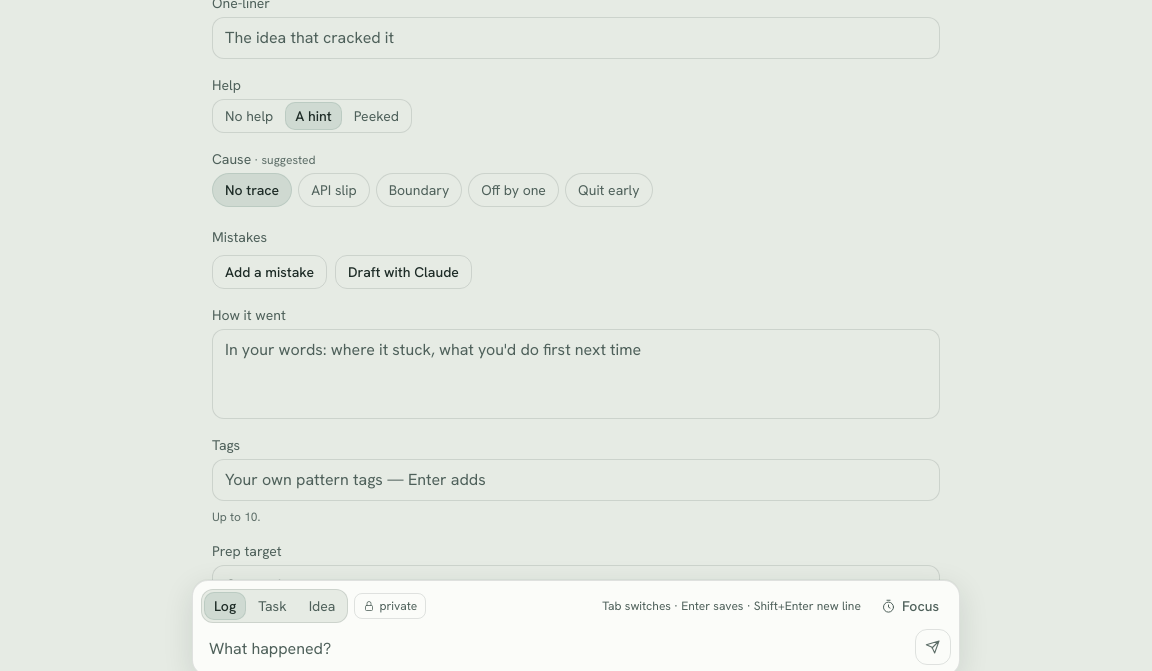
Test: the review › Claude’s draft lines arrive unticked; only ticked ones — edited — are saved, marked draftUsed
The image size is (1152, 671).
(page scrolled)
Step 1. Click the button "Draft with Claude" → (404, 272), box [335,255,472,289]
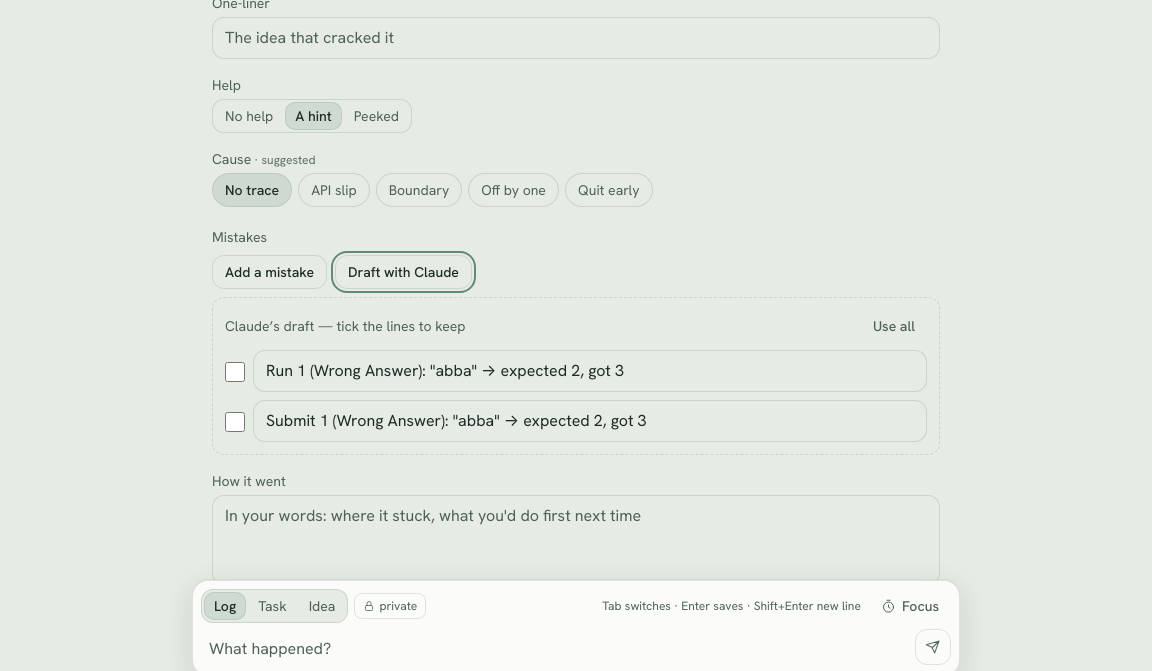
Expected: the number of checkboxes is 2, [225,362,245,382]; [225,412,245,432]
Expected: the text box named "Draft line 1" holds "Run 1 (Wrong Answer): \"abba\" → expected 2, got 3", [253,350,927,392]
Expected: the checkbox named "Keep draft line 1" is not checked, [225,362,245,382]
Step 2. Replace the text in the text box named "Draft line 2" with "Moved left past a repeat it had already left behind (\"abba\")" → (590, 421), box [253,400,927,442]
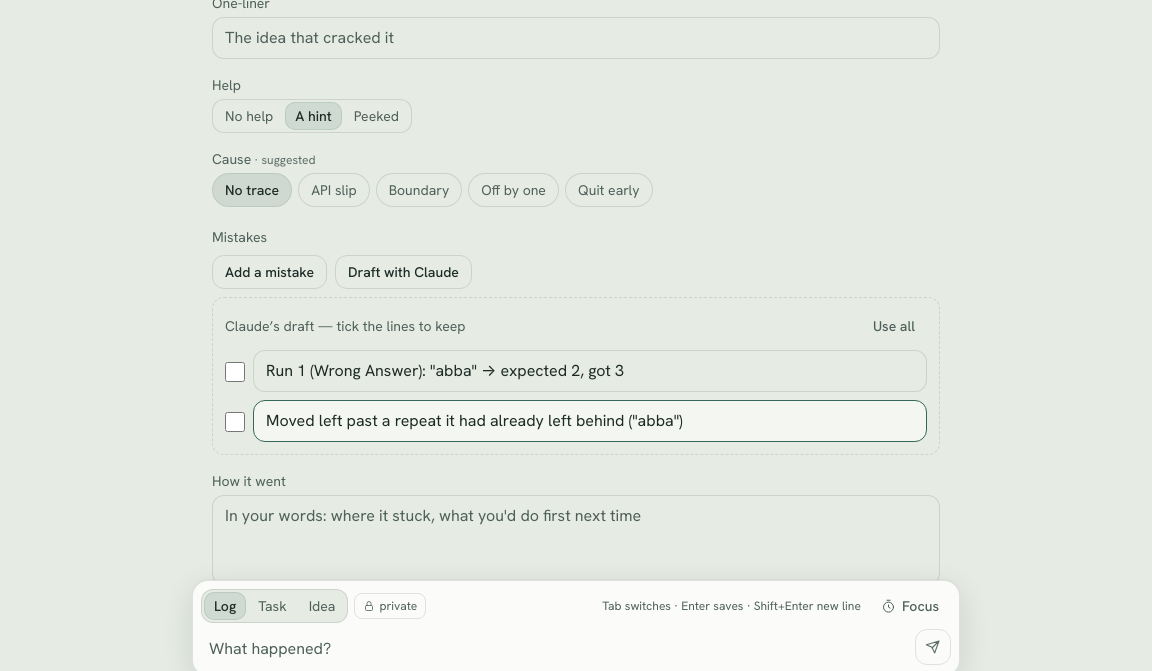
Step 3. Click the checkbox named "Keep draft line 2" → (235, 422), box [225,412,245,432]
(page scrolled)
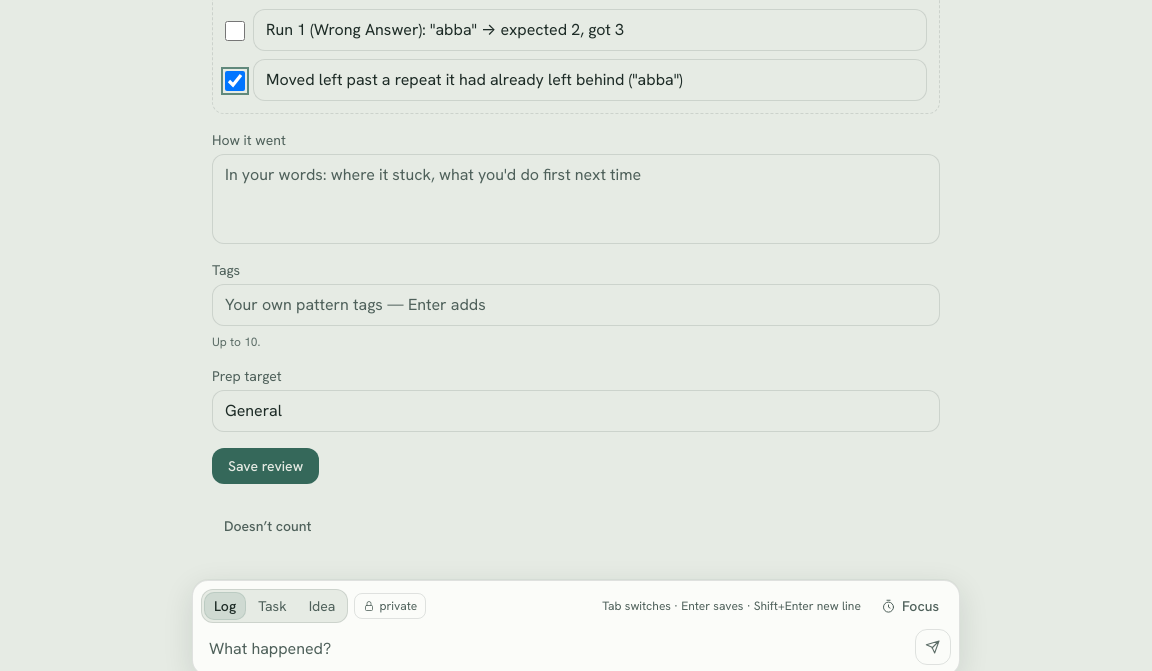
Step 4. Click the button "Save review" → (266, 466), box [212,448,319,484]
(page scrolled)
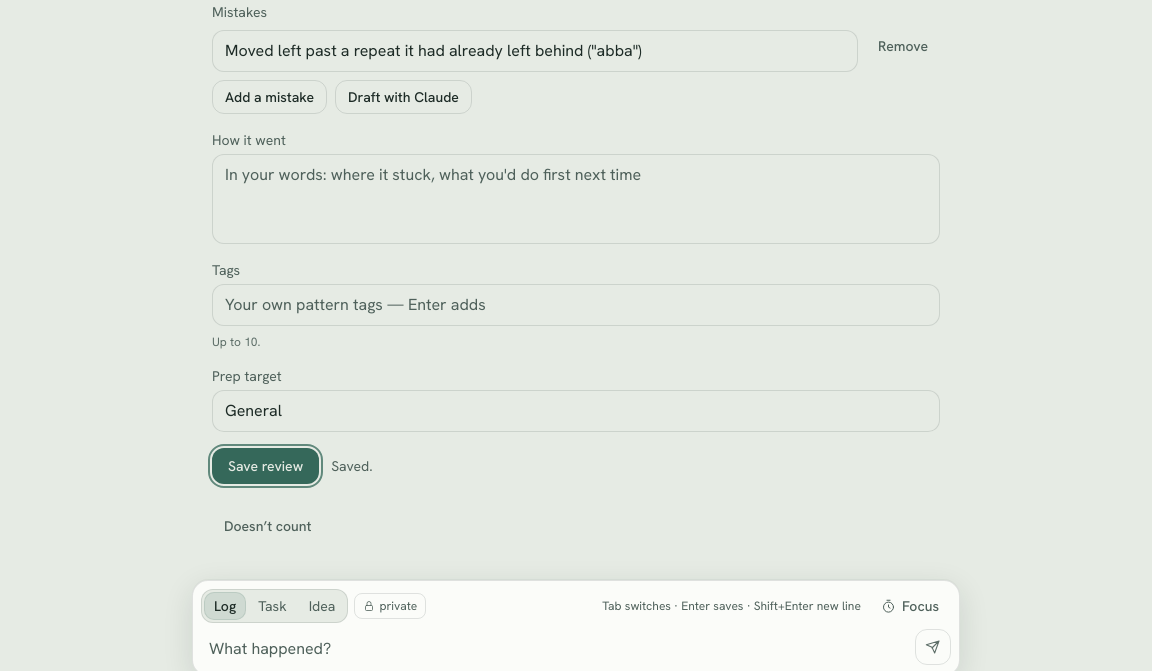
Expected: the text "Saved." is shown, [331,457,373,475]
Note: Use all ticks every line.
Step 5. Click the button "Draft with Claude" → (404, 97), box [335,80,472,114]
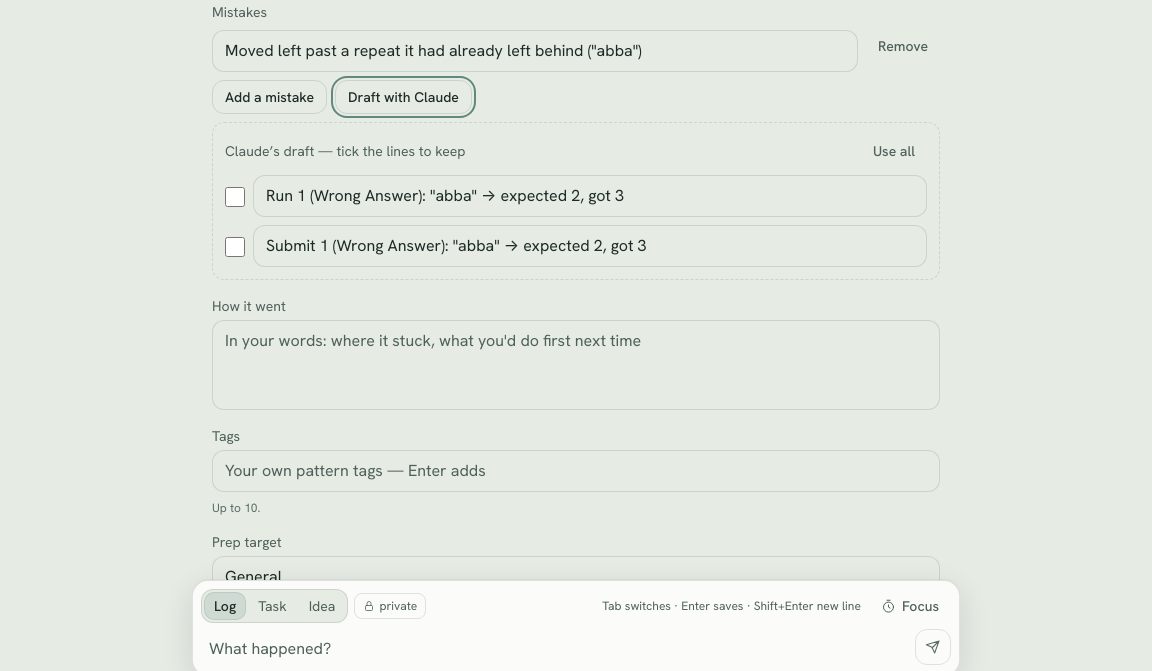
Step 6. Click the button "Use all" → (894, 151), box [861,135,927,167]
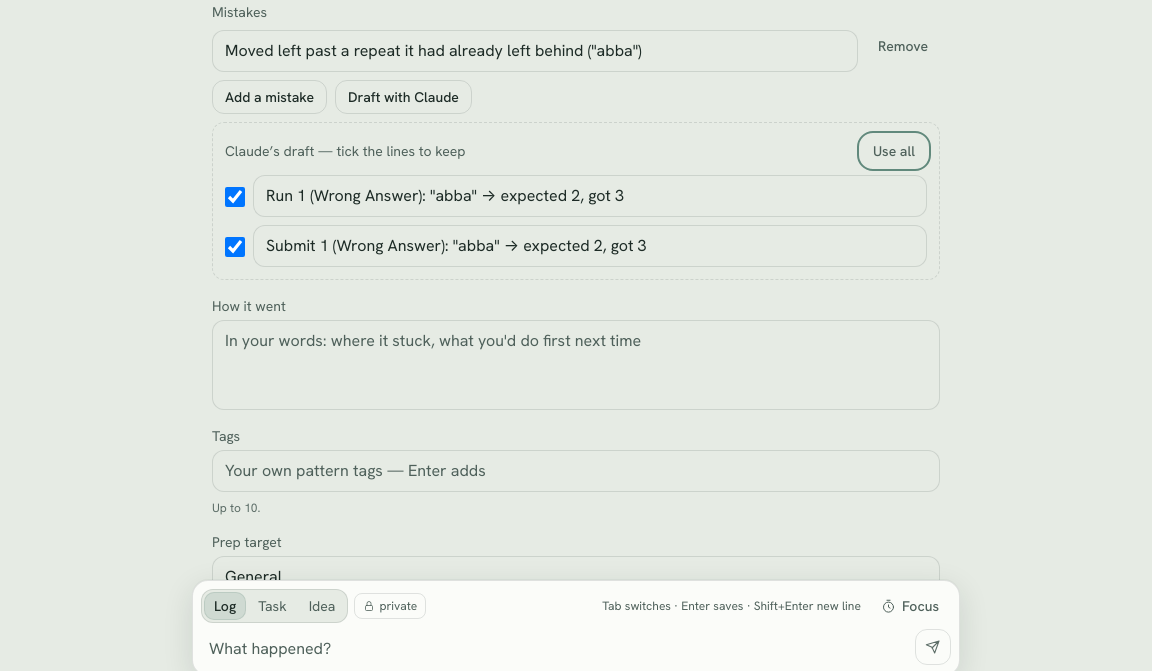
Expected: the checkbox named "Keep draft line 1" is checked, [225,187,245,207]
Expected: the checkbox named "Keep draft line 2" is checked, [225,237,245,257]
